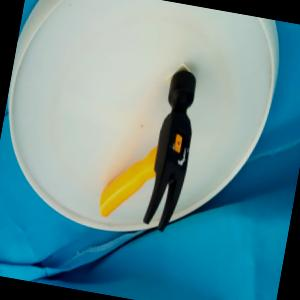martelo: (95, 57, 204, 236)
